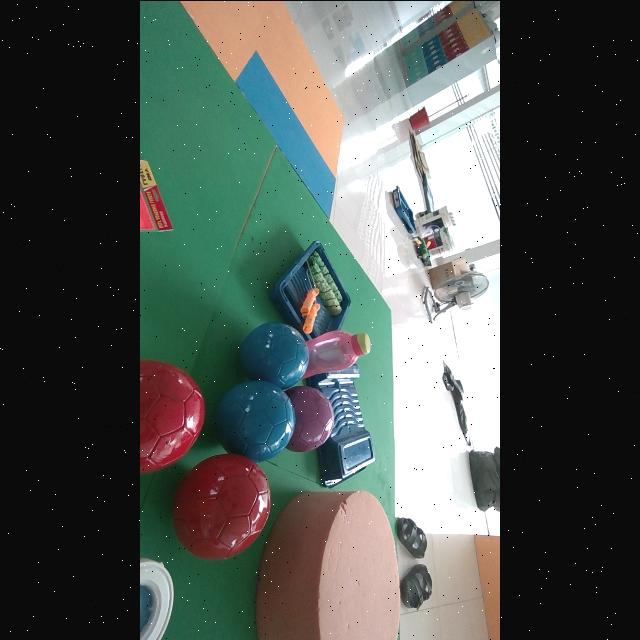B: (216, 380, 295, 461), (241, 321, 308, 388)
P: (286, 385, 335, 452)
R: (173, 453, 271, 560), (140, 359, 204, 472)
